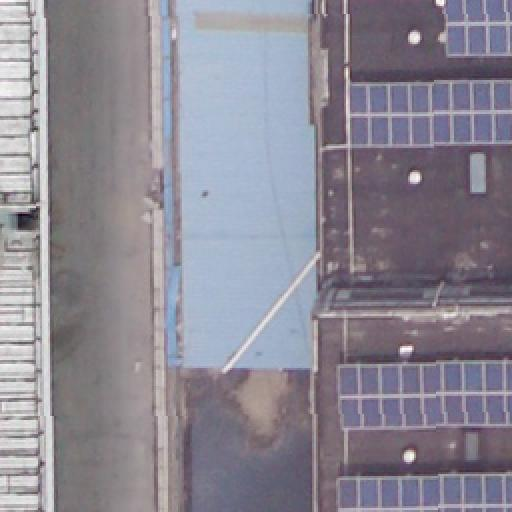solar-panel: (336, 358, 512, 430), (344, 79, 512, 145), (336, 474, 512, 510), (444, 1, 512, 55)
